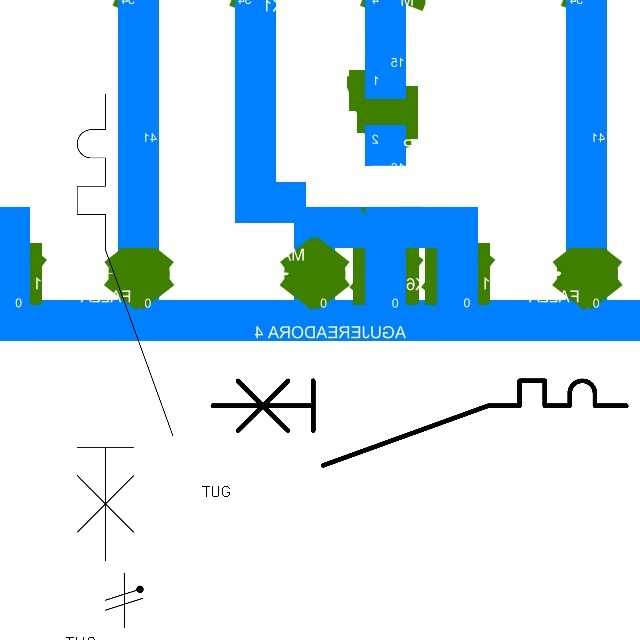interruptor_termomagnetico: (65, 82, 185, 573), (202, 370, 637, 476)
